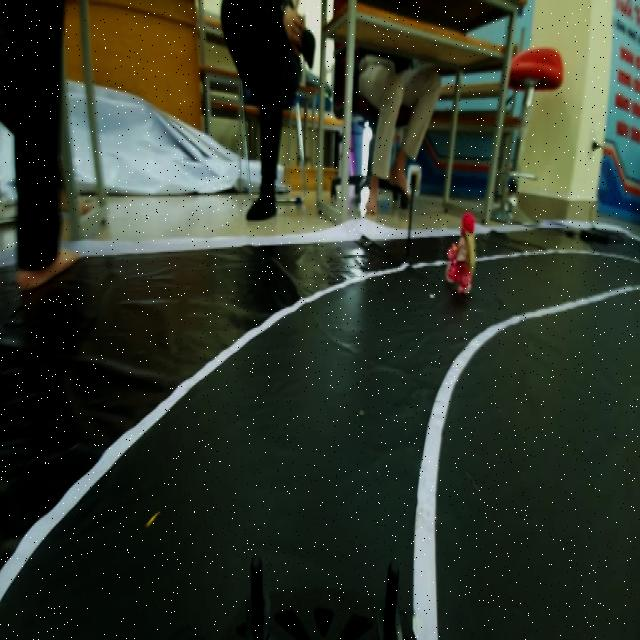pedestrian: (445, 209, 474, 295)
